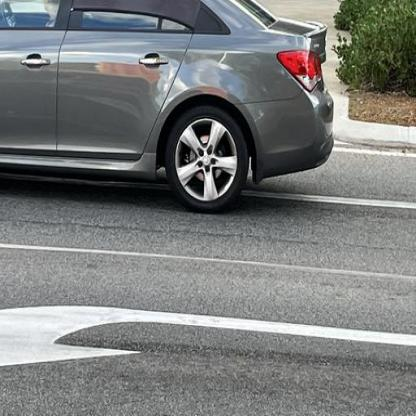Tire: (166, 105, 249, 212)
